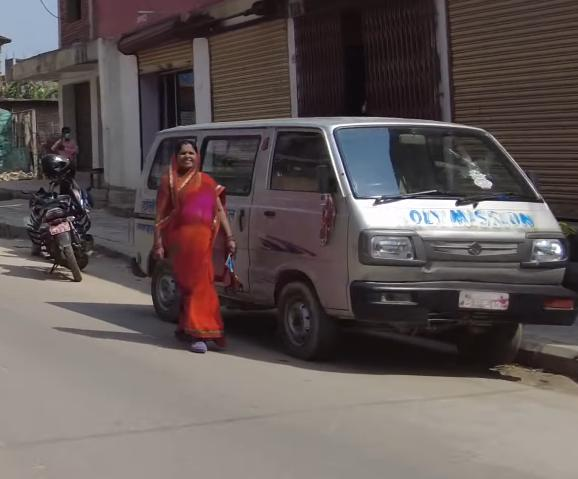bike: (24, 169, 100, 289)
van: (122, 106, 578, 366)
